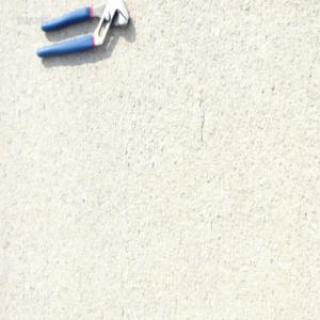Pliertrack_idkeyframe: (34, 0, 130, 60)
